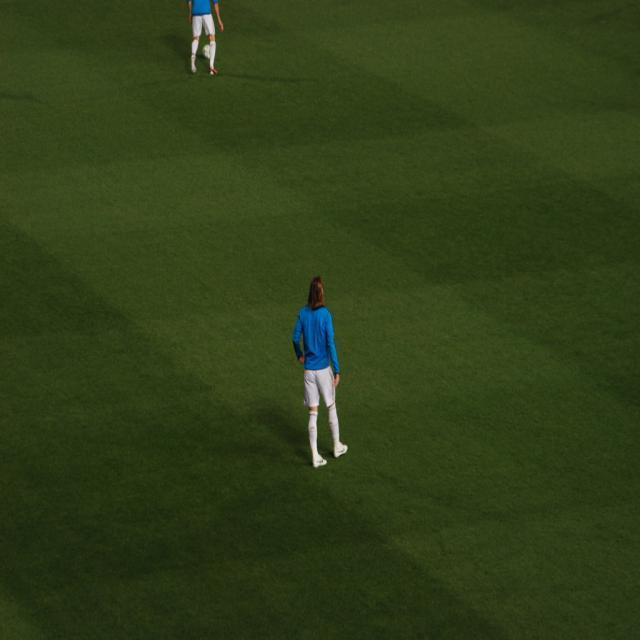football: (197, 44, 219, 62)
